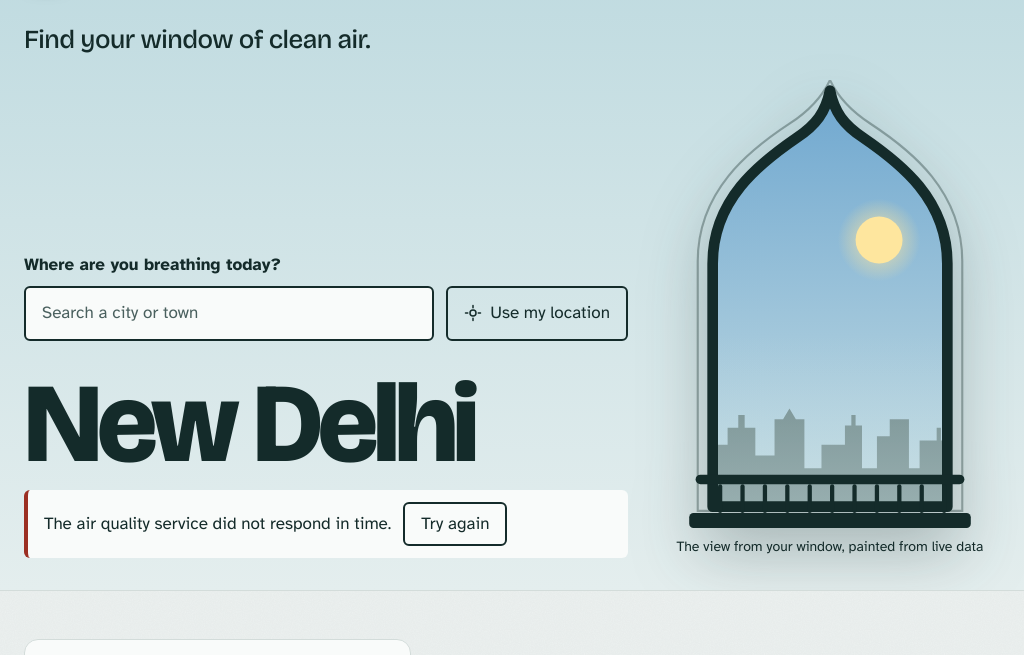
Test: VaatayanApp: the Today page › shows a clear error and recovers when live air fails
Expected: the message shows "did not respond in time", [44,513,391,534]
Step 1. Click the button "Try again" → (455, 524), box [403,502,507,546]
(page scrolled)
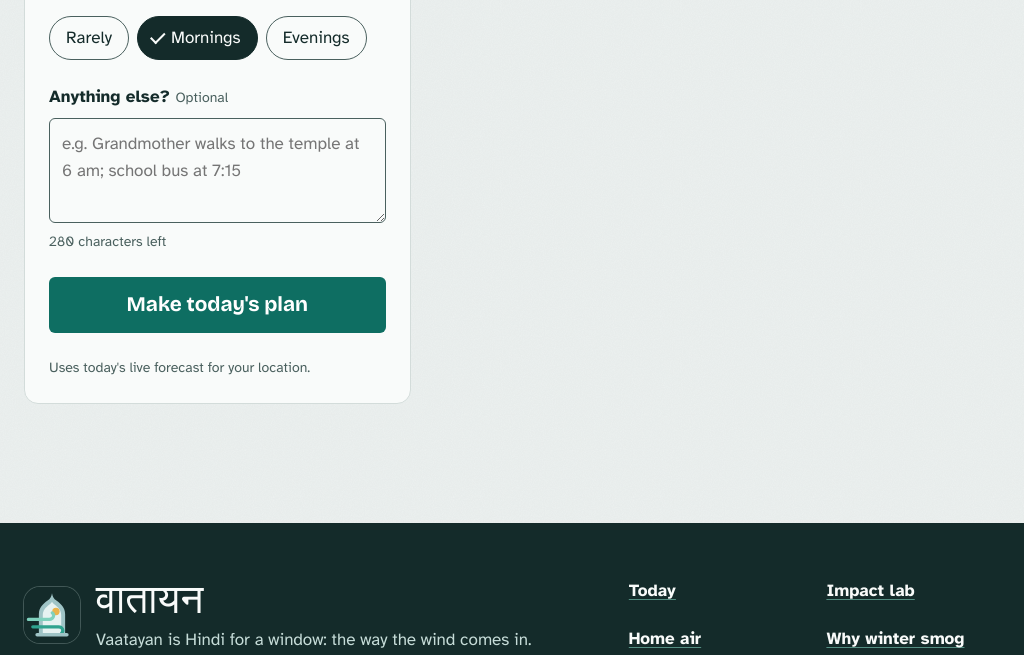
Now the button "Make today's plan" is enabled, box [49,277,386,333]
